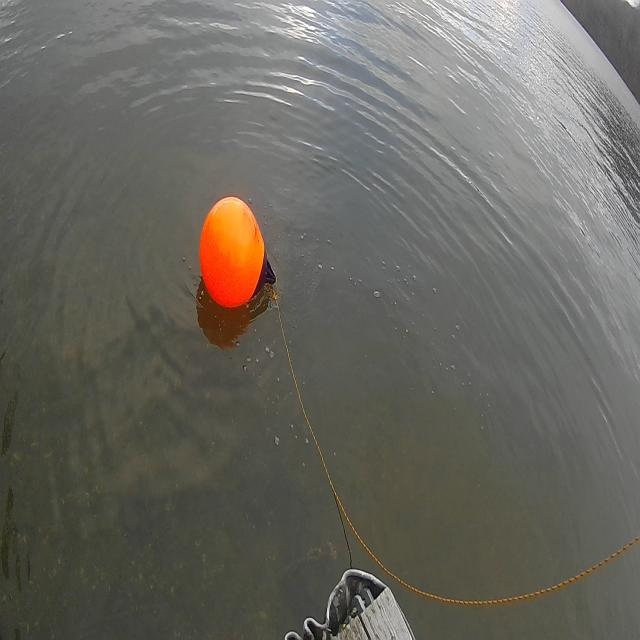Buoy: (201, 189, 279, 308)
